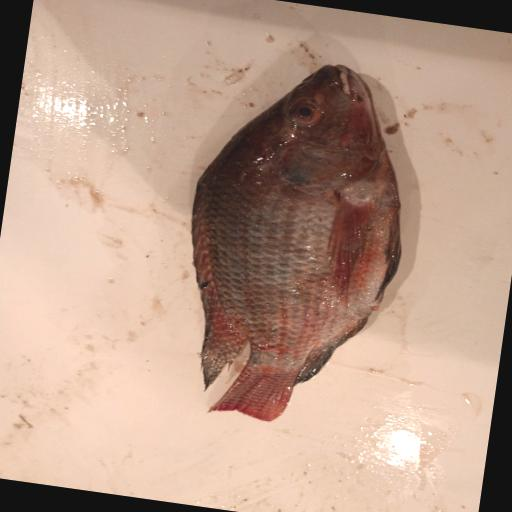Tilapia: (165, 47, 427, 437)
